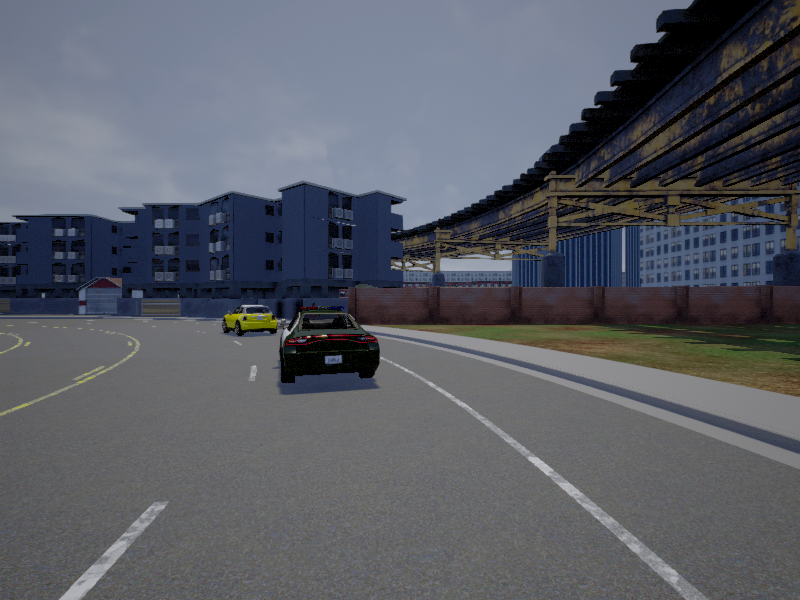Benign: (278, 306, 381, 386), (222, 304, 277, 339)
